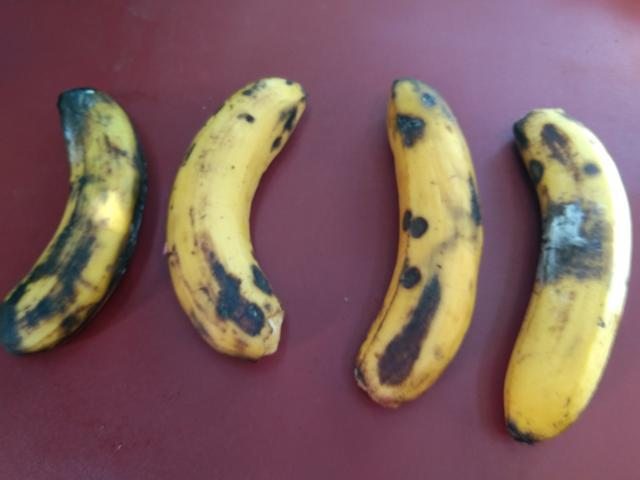overripe: (147, 65, 329, 394), (343, 65, 485, 428)
rotten: (497, 98, 639, 455), (0, 69, 155, 383)
